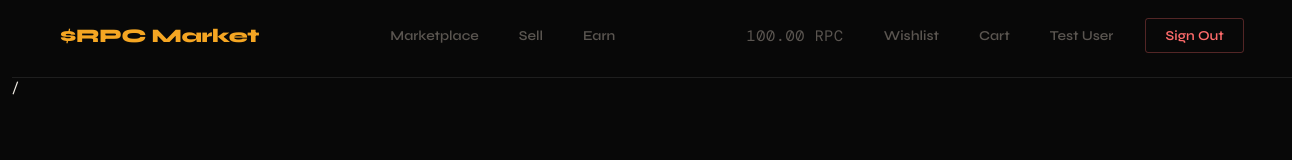
Test: Navbar › navigates to /wishlist when Wishlist is clicked
The width and height of the screenshot is (1292, 160).
What coordinates should you click on to do the following:
click the link "Wishlist"
I would click on:
 (911, 36)
Its box is [884,27,939,44].
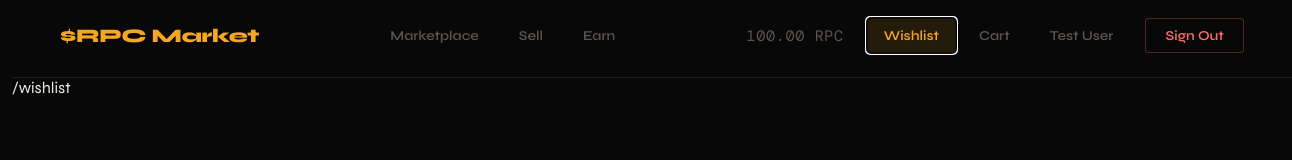
expect the text with test id "location" reads "/wishlist": met, box [12,78,71,97]
